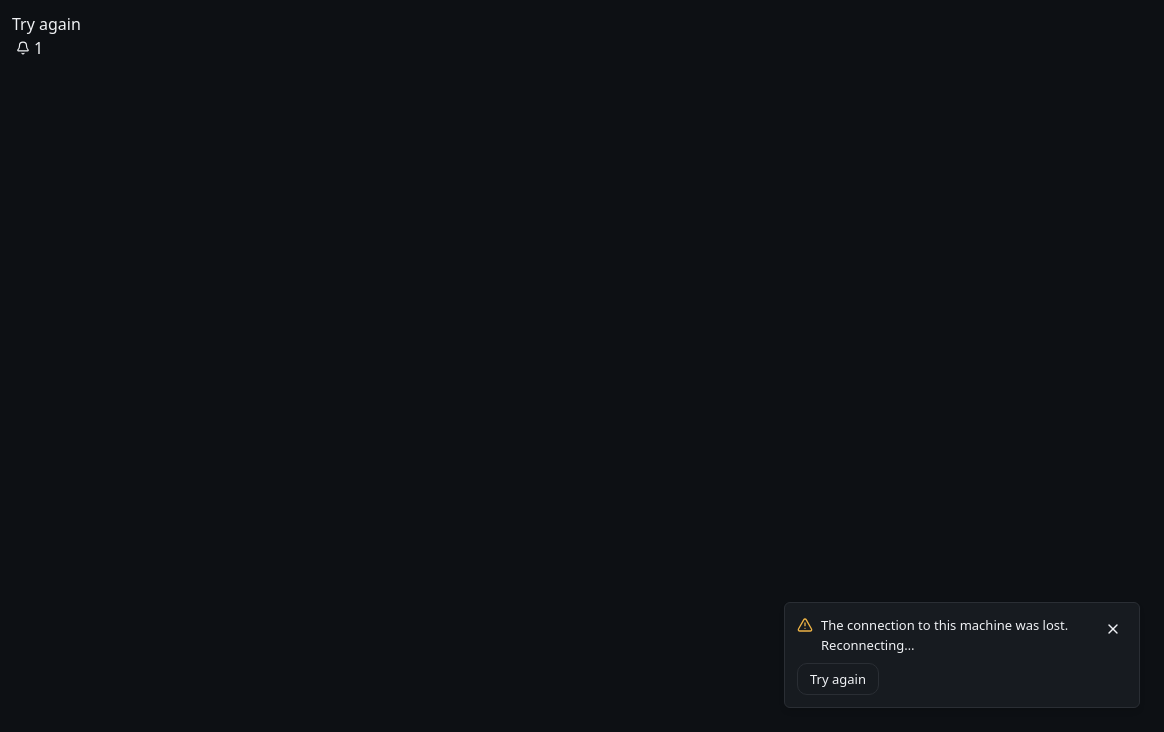
it: a notification becomes a toast — plan 06, S-130, S-133 › stays while it asks for an action, and running the action closes it
Check: the message "The connection to this machine was lost. Reconnecting… Try again" is shown, box left=784, top=602, right=1140, bottom=708
What coordinates should you click on to do the following:
click the 2nd button "Try again"
I would click on:
 (838, 679)
Its box is left=797, top=663, right=879, bottom=695.
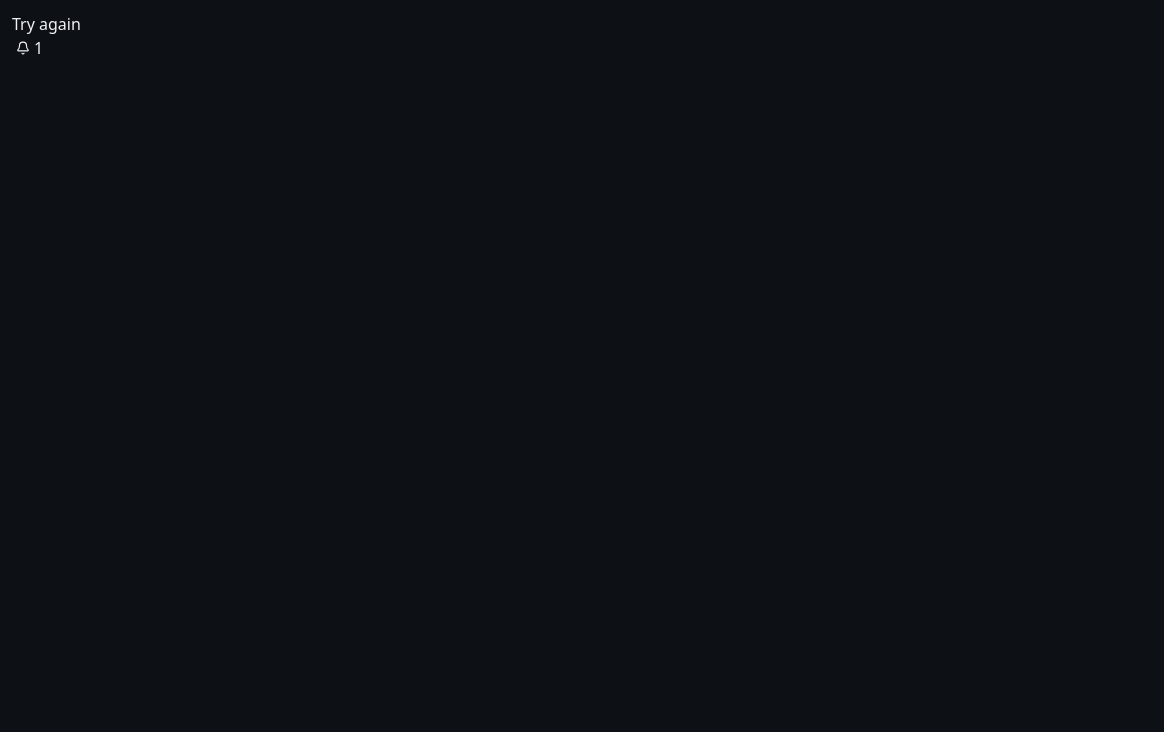
Check: the text "The connection to this machine was lost. Reconnecting…" is gone
